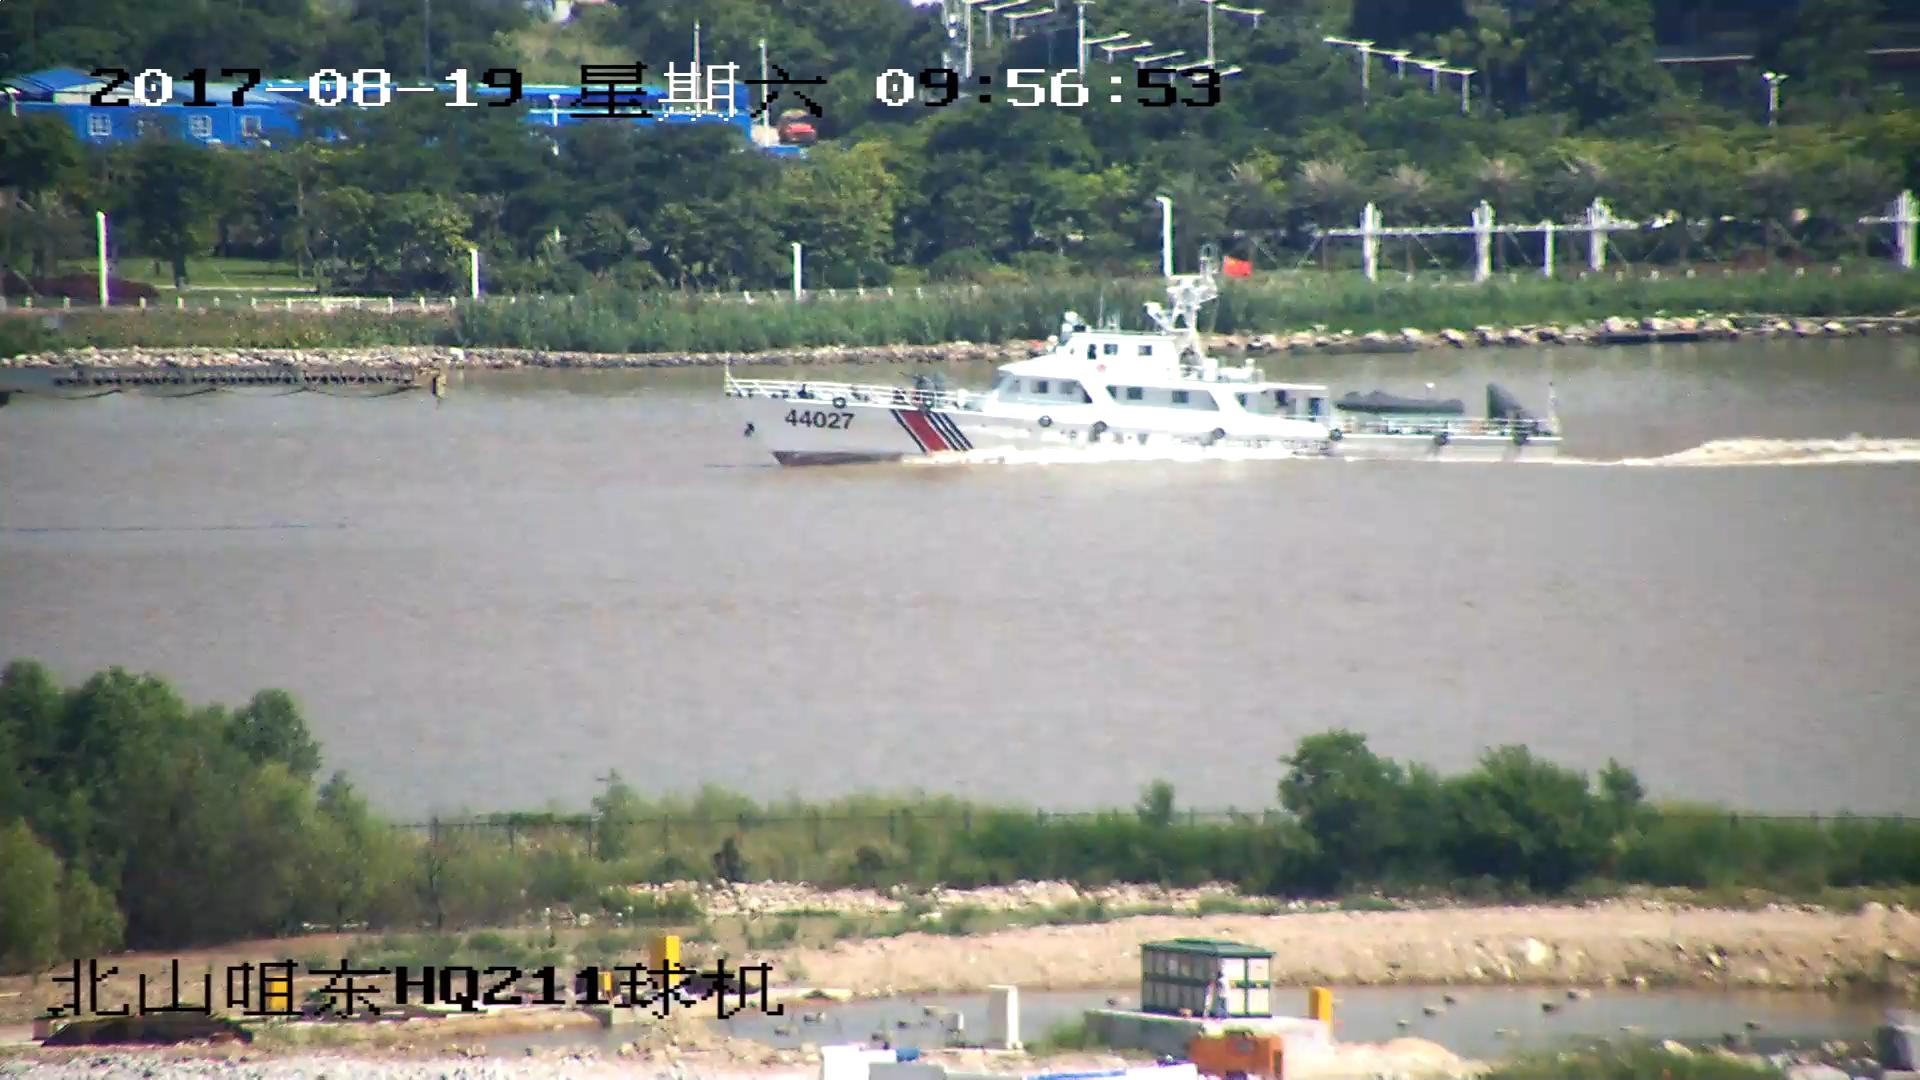passenger ship: (722, 270, 1570, 472)
